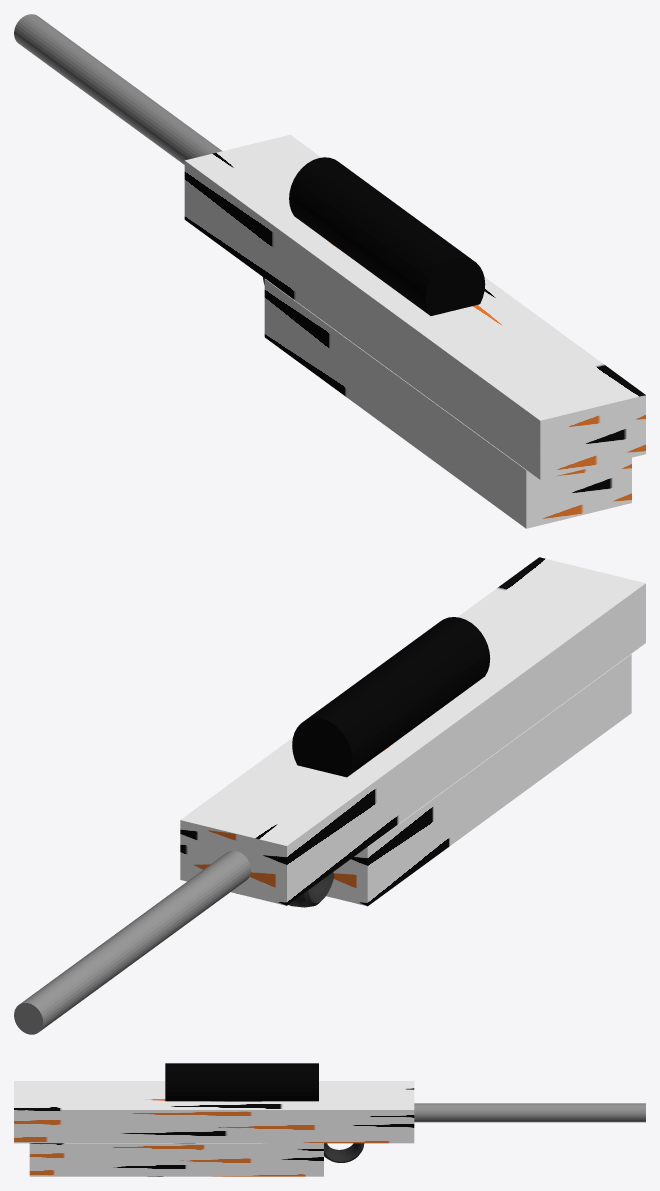
The picture shows the model from 3 angles, top to bottom: view 1: azimuth 30°, elevation 25°; view 2: azimuth 150°, elevation 25°; view 3: azimuth 270°, elevation 25°; orthographic projection. The views are drawn at different scales.
Visible parts, largest first — view 1: Main, Detail.001, Detail; view 2: Main, Detail.001, Detail, Detail.002; view 3: Main, Detail.001, Detail, Detail.002.
Part boxes in pixels (<box>): Main: <box>184,134,645,528</box>; Detail.001: <box>289,157,485,315</box>; Detail: <box>14,14,222,164</box>; Main: <box>180,557,645,906</box>; Detail.001: <box>292,617,490,777</box>; Detail: <box>14,850,251,1034</box>; Detail.002: <box>288,872,334,907</box>; Main: <box>14,1081,414,1176</box>; Detail.001: <box>165,1063,318,1101</box>; Detail: <box>414,1103,645,1122</box>; Detail.002: <box>324,1143,364,1162</box>.
Size of the model in its own units: 2.94 by 4.53 by 27.04.
4 materials, 1 textured.
